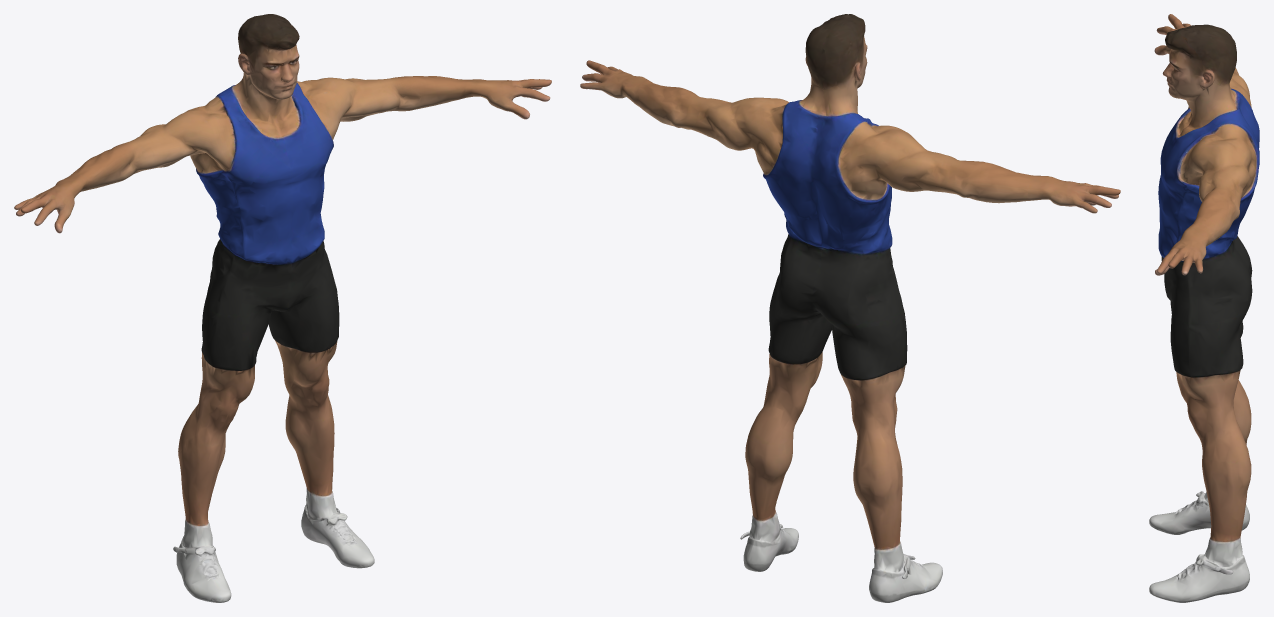
File: thrower.glb
The picture shows the model from 3 angles, left to right: view 1: azimuth 30°, elevation 25°; view 2: azimuth 150°, elevation 25°; view 3: azimuth 270°, elevation 25°; orthographic projection. The views are drawn at different scales.
Visible parts, largest first — view 1: tripo_node_f62b6f77-39d3-4576-9f8b-dd2ce7038578; view 2: tripo_node_f62b6f77-39d3-4576-9f8b-dd2ce7038578; view 3: tripo_node_f62b6f77-39d3-4576-9f8b-dd2ce7038578.
Boxes of the visible parts, box(x1,y1,x2,y2) form: tripo_node_f62b6f77-39d3-4576-9f8b-dd2ce7038578: box(14, 14, 551, 602); tripo_node_f62b6f77-39d3-4576-9f8b-dd2ce7038578: box(580, 14, 1120, 602); tripo_node_f62b6f77-39d3-4576-9f8b-dd2ce7038578: box(1149, 14, 1259, 602).
Size of the model in its own units: 1.89 by 1.88 by 0.3513.
1 material, 1 textured.
